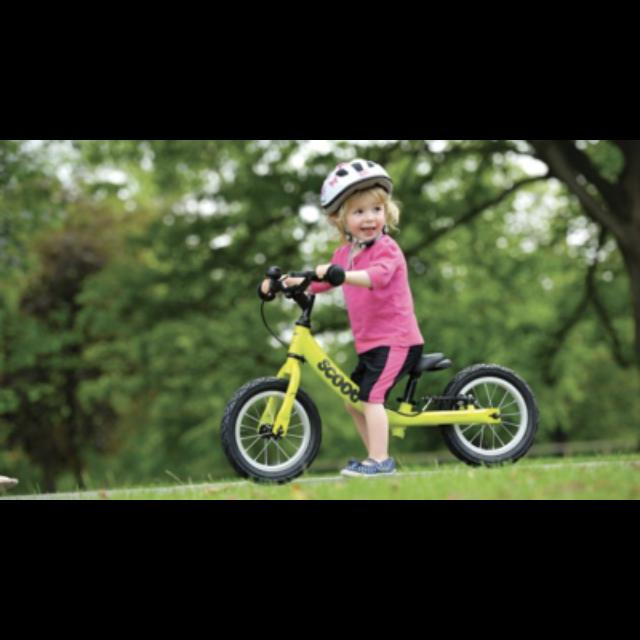With Helmet: (312, 156, 414, 252)
